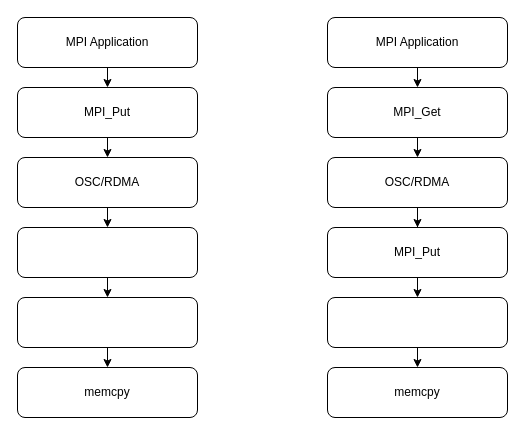
Image size: 525x435. Some labels were removed from this diagram. Here are the shapes that lost their labels. From the top down, the centre of each, then its label:
point (107, 252): BTL/self
point (107, 322): mca_btl_self_put
point (417, 322): mca_btl_self_get
